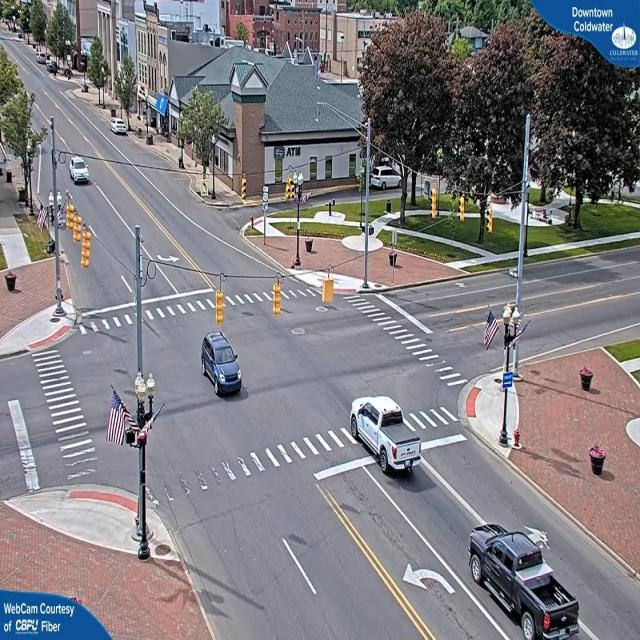car: (465, 527, 584, 640), (351, 395, 424, 478), (201, 333, 245, 396), (68, 157, 89, 186), (112, 120, 129, 136)
